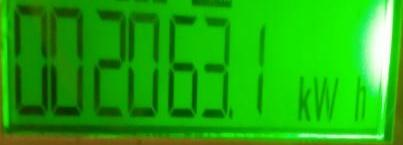.: (290, 74, 373, 127)
0: (225, 109, 235, 117)
1: (11, 3, 48, 115), (48, 6, 85, 117), (127, 10, 162, 118)
2: (254, 22, 270, 120)
3: (91, 8, 124, 120)
4: (202, 16, 232, 121)
7: (166, 15, 201, 118)
